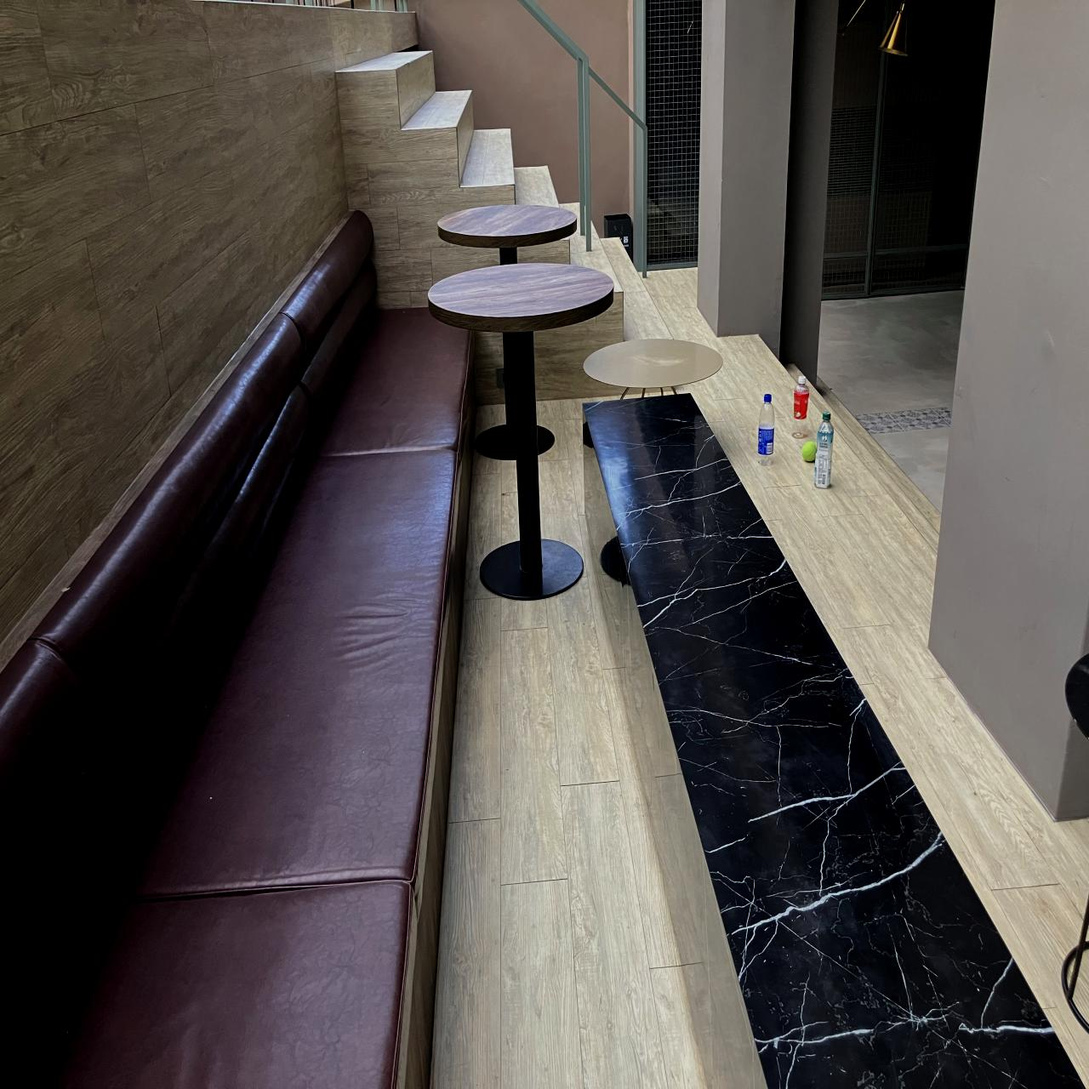plastic-bottle: (815, 412, 833, 488), (758, 394, 774, 464), (794, 375, 808, 438)
tennisball: (801, 441, 817, 462)
